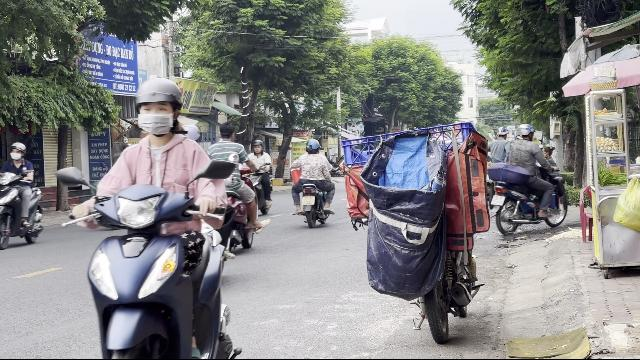helmet: (132, 77, 184, 136), (8, 141, 24, 161), (516, 124, 534, 140)
motorcyclist: (65, 72, 238, 354), (204, 121, 262, 256), (0, 140, 44, 250)
nohelmet: (218, 122, 236, 140)
